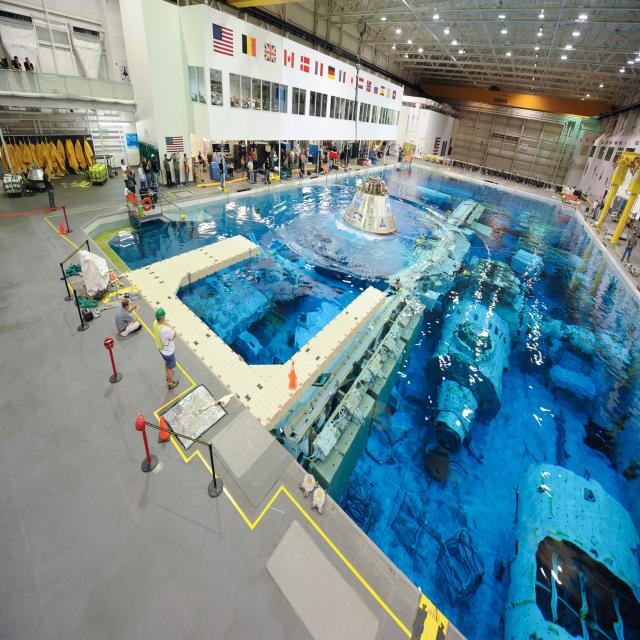Orange_colored_life-ring: (142, 196, 152, 213)
Orion_capsule_mockup_(WEST)_located_on_far_end_of_pool: (342, 171, 398, 239)
